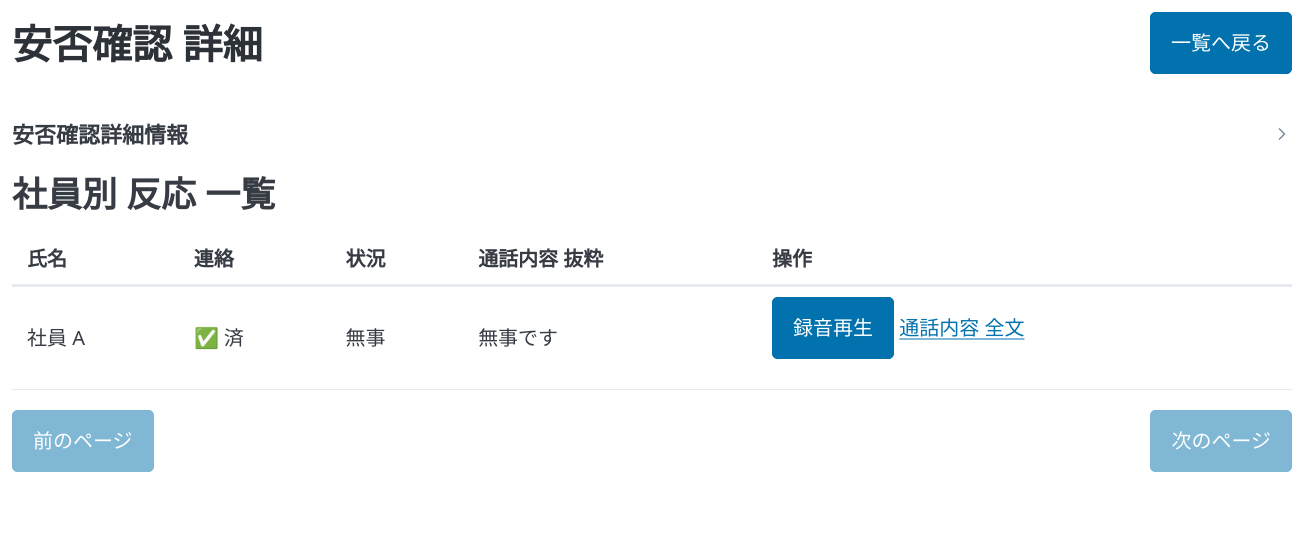
Scenario: CycleDetailPage › サーバーが 410 Gone を返したら「保管期間超過」メッセージを表示
Click the button with test id "play-button-emp-A" at (833, 328), box [772,297,894,359]
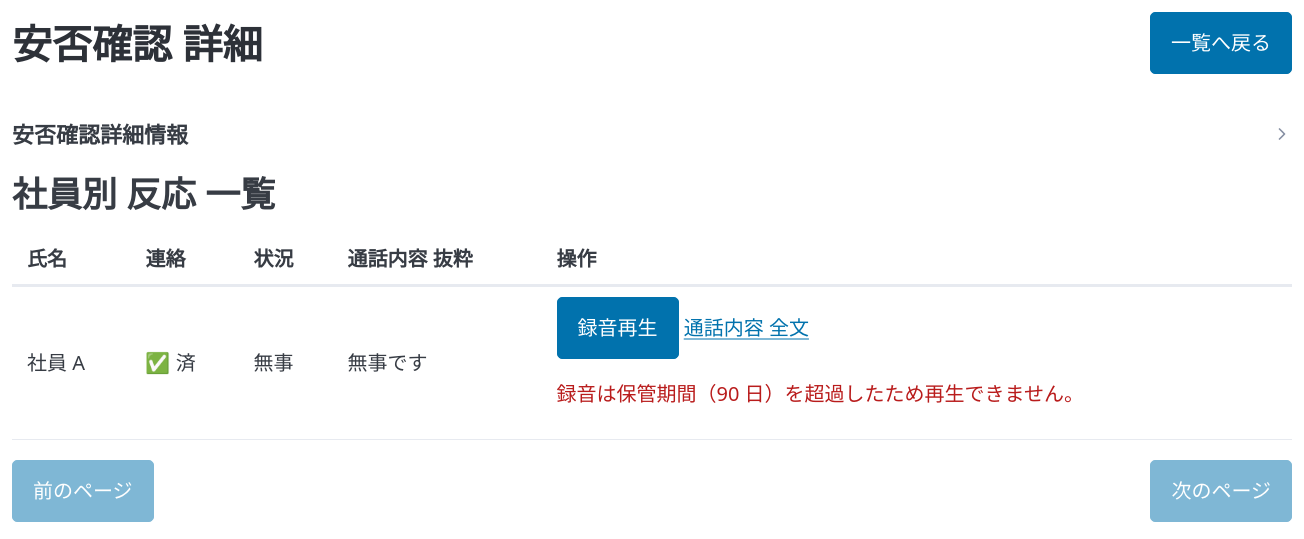
Expected: the message with test id "recording-error-emp-A" shows "保管期間（90 日）を超過", [556,380,1084,407]
